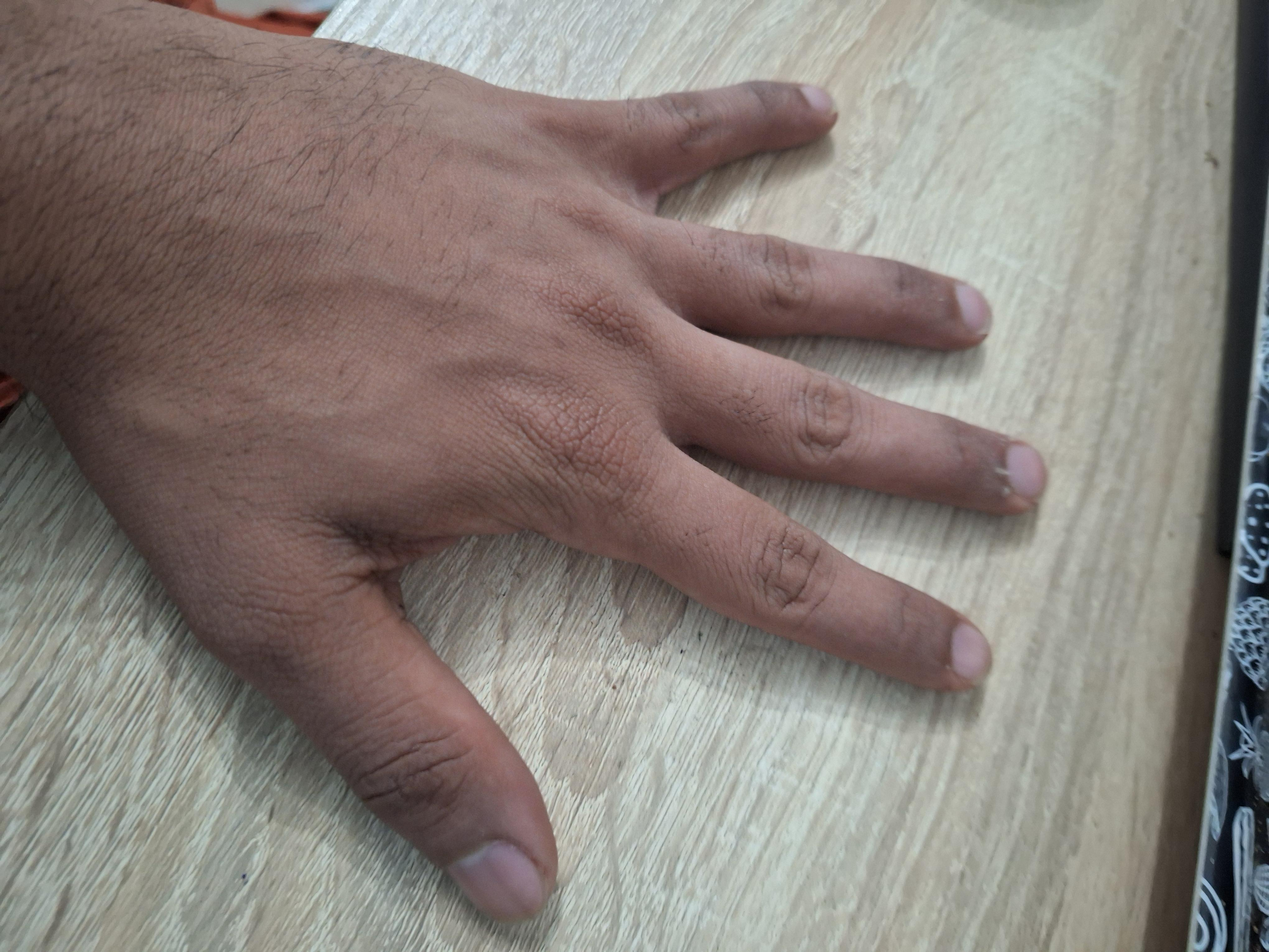Fingernail: (446, 839, 542, 923), (951, 622, 990, 684), (1007, 444, 1045, 497), (956, 285, 991, 335), (799, 85, 837, 117)
